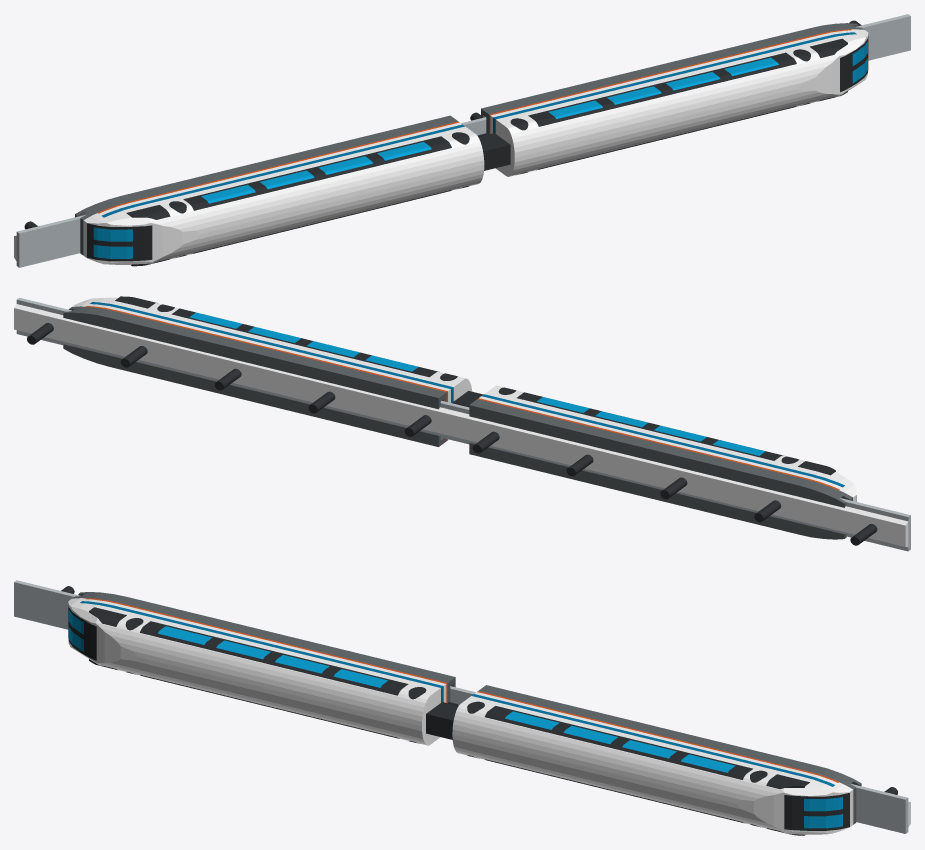
File: tinker.obj
The picture shows the model from 3 angles, top to bottom: view 1: azimuth 30°, elevation 25°; view 2: azimuth 150°, elevation 25°; view 3: azimuth 330°, elevation 25°; orthographic projection.
Visible parts, largest first — view 1: group_0_16448250, group_0_2829873, group_0_6383466, group_0_40919, group_0_12568524, group_0_30377, group_0_14900002; view 2: group_0_16448250, group_0_6383466, group_0_2829873, group_0_12568524, group_0_40919, group_0_30377, group_0_14900002; view 3: group_0_16448250, group_0_2829873, group_0_6383466, group_0_40919, group_0_12568524, group_0_30377, group_0_14900002.
Boxes of the visible parts, <box> form: group_0_16448250: <box>14,29,868,264</box>; group_0_2829873: <box>24,20,868,266</box>; group_0_6383466: <box>75,23,864,254</box>; group_0_40919: <box>93,41,867,258</box>; group_0_12568524: <box>16,14,910,267</box>; group_0_30377: <box>101,32,856,217</box>; group_0_14900002: <box>97,29,851,213</box>; group_0_16448250: <box>14,297,908,547</box>; group_0_6383466: <box>63,306,852,539</box>; group_0_2829873: <box>27,296,877,545</box>; group_0_12568524: <box>16,297,910,551</box>; group_0_40919: <box>189,312,765,455</box>; group_0_30377: <box>90,302,844,487</box>; group_0_14900002: <box>86,306,839,490</box>; group_0_16448250: <box>68,598,910,834</box>; group_0_2829873: <box>61,586,897,835</box>; group_0_6383466: <box>72,592,861,824</box>; group_0_40919: <box>68,609,842,828</box>; group_0_12568524: <box>14,580,908,833</box>; group_0_30377: <box>80,601,834,786</box>; group_0_14900002: <box>85,598,838,782</box>.
Bounding box in the file's own units: 380 × 20.39 × 38.
